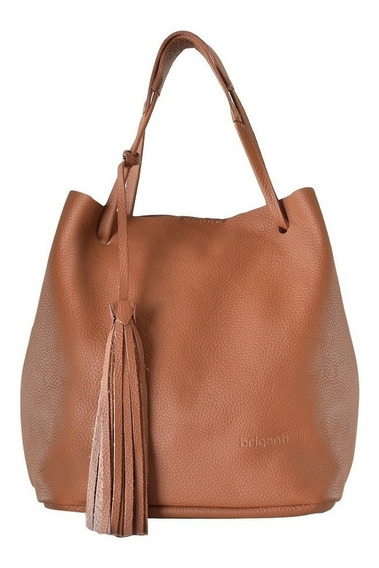cartera: (19, 31, 359, 537)
